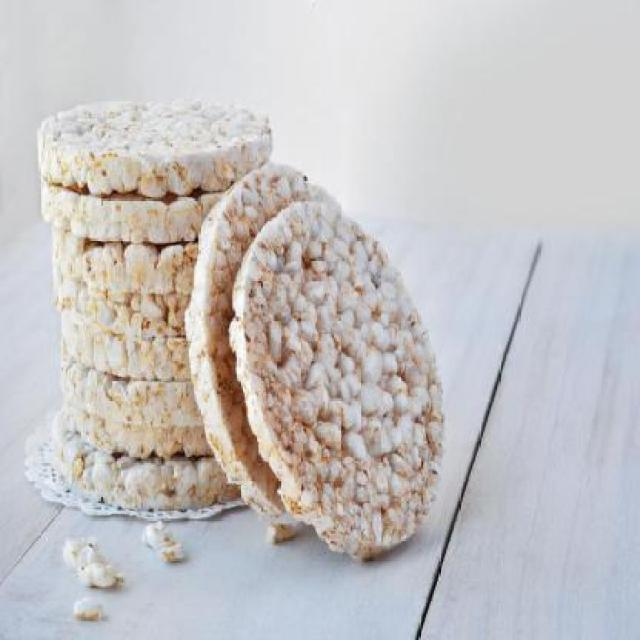Gallette di riso packaged: (234, 202, 450, 570), (31, 74, 276, 188)
